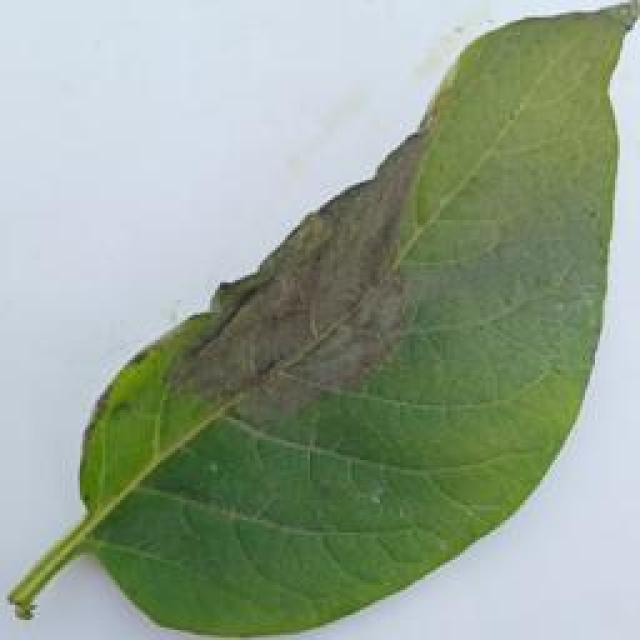Potato_Late_Blight: (13, 8, 626, 632)
